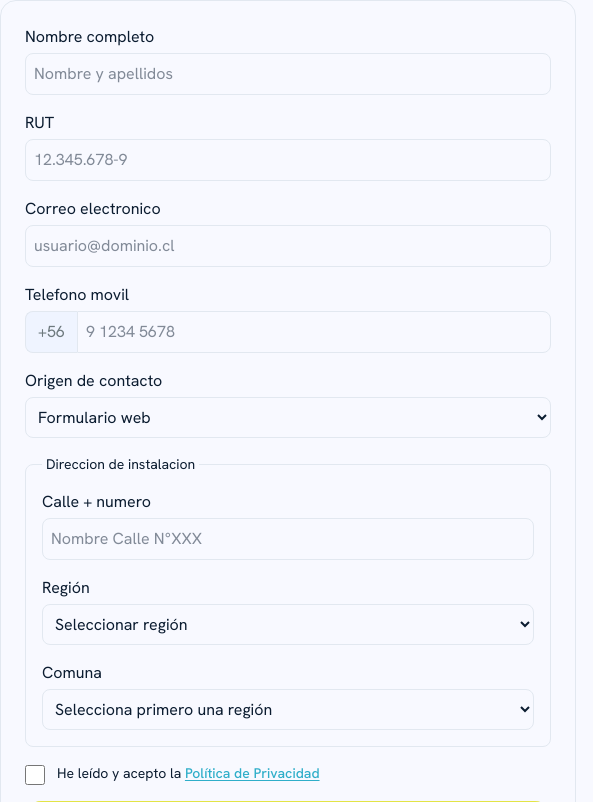
Test case: CU-75: formulario de contratación › teléfono, como lo escribe o pega una persona › un número incompleto no pasa la validación del navegador
Type "91234" into the field labelled "Telefono movil". click: (314, 332)
box: [77,311,551,353]
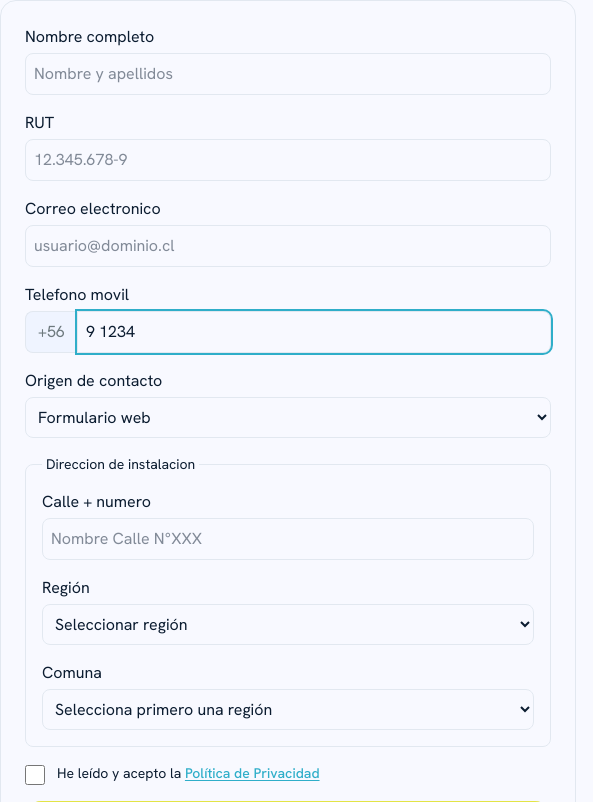
Check: the field labelled "Telefono movil" holds "9 1234", box [77,311,551,353]
